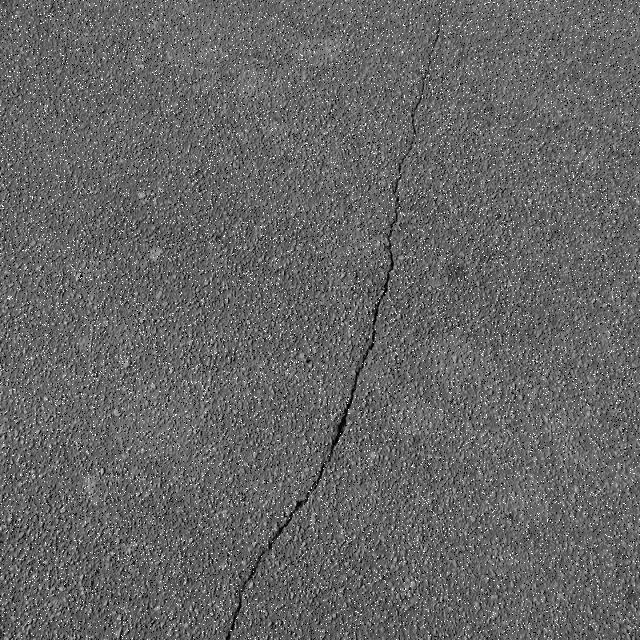moderate crack: (360, 106, 417, 343), (221, 498, 308, 630), (295, 32, 376, 153), (320, 350, 372, 467), (223, 579, 246, 628)
severe crack: (212, 15, 437, 637), (380, 0, 640, 405), (0, 259, 234, 636), (6, 4, 282, 299), (399, 10, 447, 183), (291, 495, 308, 517), (344, 266, 360, 287), (266, 534, 276, 552)
